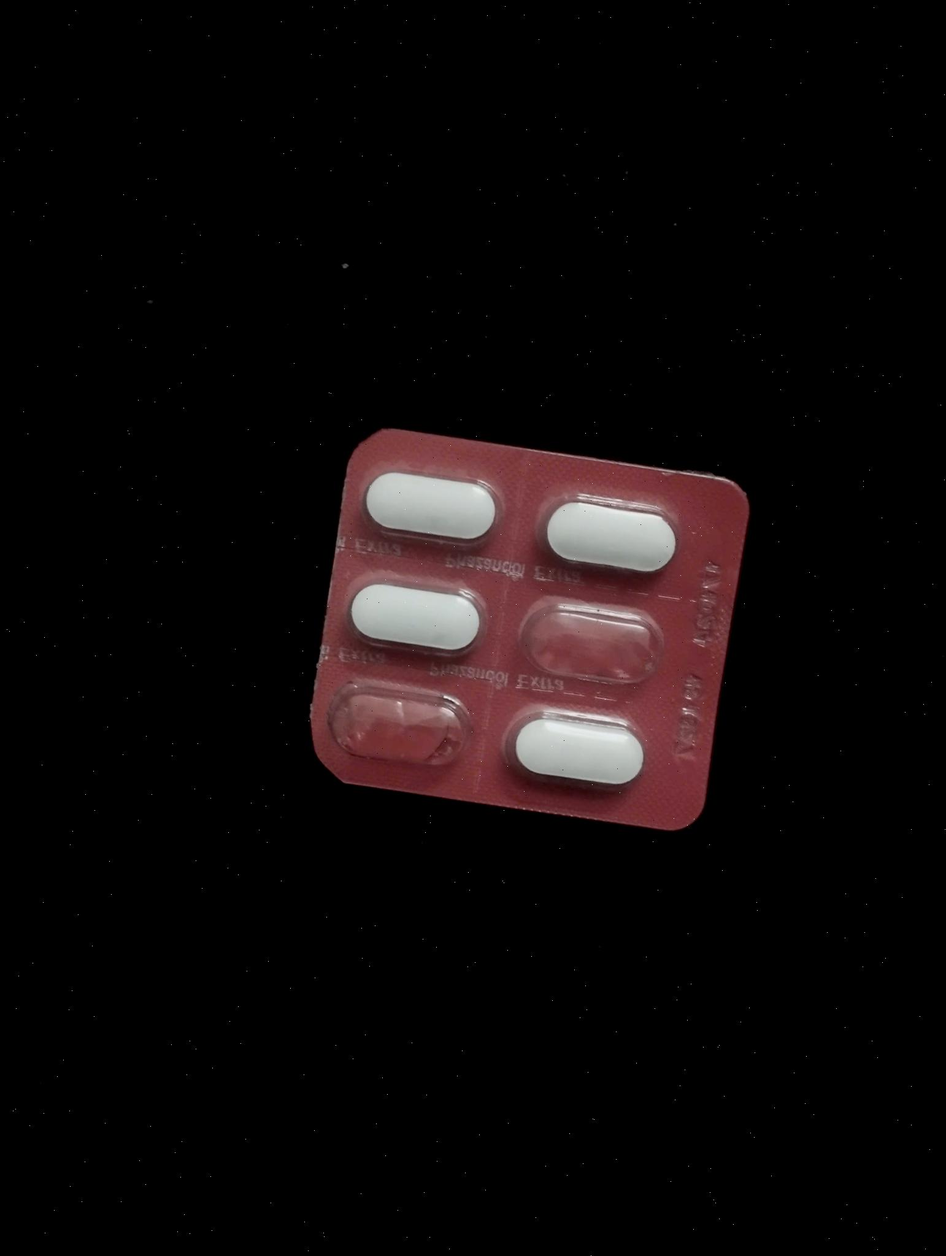Empty: (321, 669, 469, 782), (515, 589, 667, 695)
Full: (358, 454, 509, 560), (342, 573, 493, 669), (504, 703, 657, 796), (533, 492, 679, 586)
